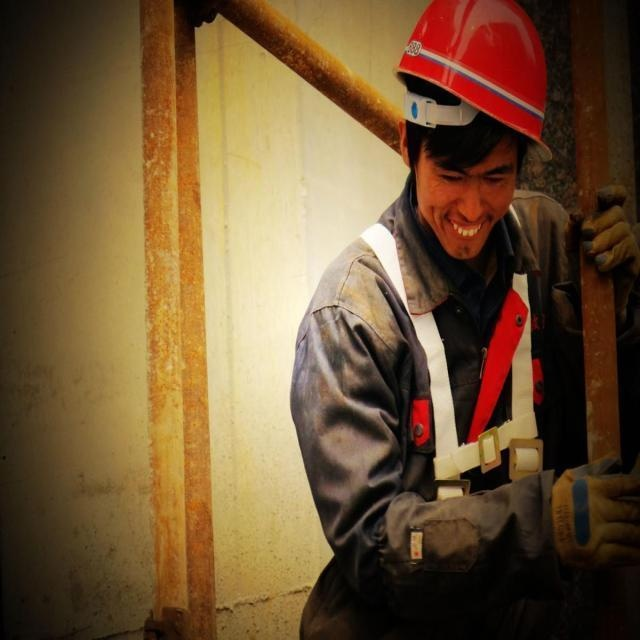Arnes_seguridad: (354, 191, 560, 513)
